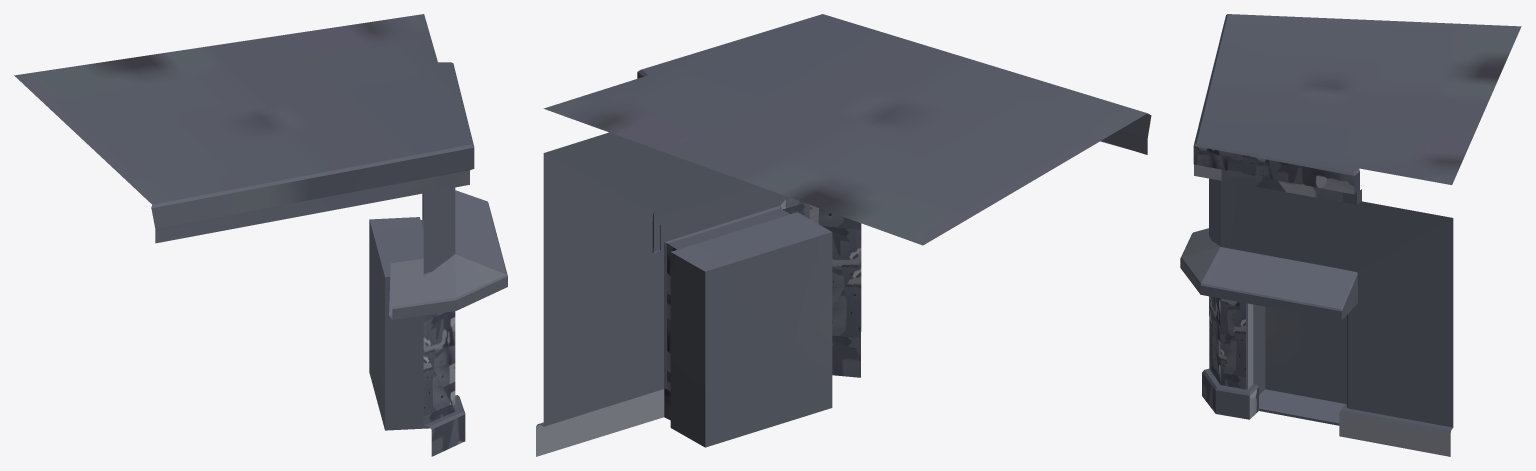
The model's file is CafeBuilding.fbx.
3 renders of one model, left to right at view 1: azimuth 30°, elevation 25°; view 2: azimuth 150°, elevation 25°; view 3: azimuth 270°, elevation 25°, orthographic. The views are drawn at different scales.
Parts seen in each view (by area): view 1: CafeBuilding; view 2: CafeBuilding; view 3: CafeBuilding.
Part boxes in pixels (x1,y1,x2,y2): CafeBuilding: [14, 14, 507, 456]; CafeBuilding: [536, 14, 1151, 456]; CafeBuilding: [1180, 14, 1521, 456].
Bounding box in the file's own units: 579 × 414 × 476.
